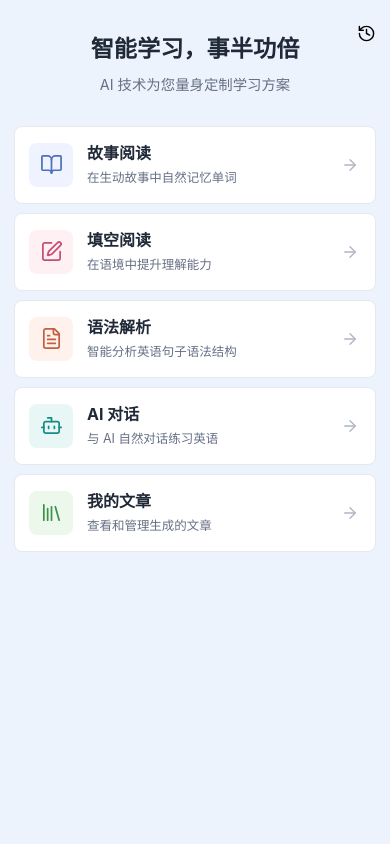
it: AgentPage › opens the established article generator before starting a workflow
The width and height of the screenshot is (390, 844).
Click the button "故事阅读 在生动故事中自然记忆单词": click(51, 165) [14,126,376,204]
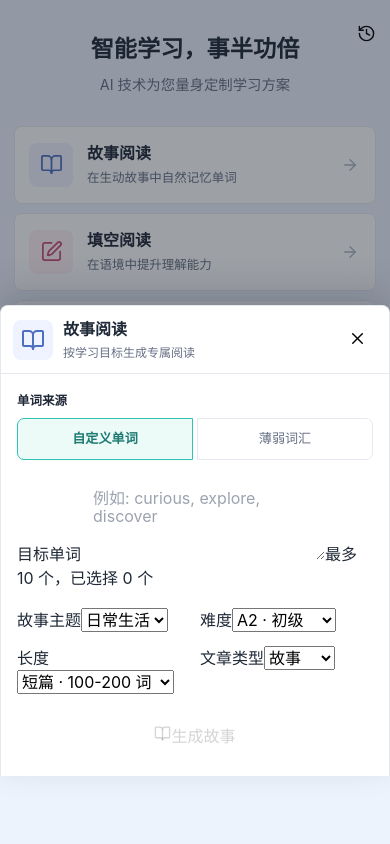
Expected: the dialog "故事阅读" is shown, [0,305,389,776]
Expected: the element "单词来源" is shown, [17,392,373,460]
Expected: the text box labelled "目标单词" is shown, [81,478,325,560]
